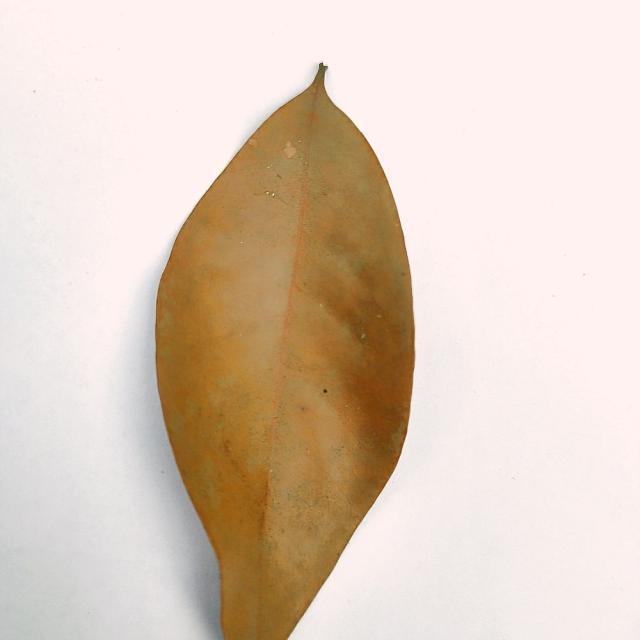Dry_Leaf-Lychee: (153, 64, 417, 639)
